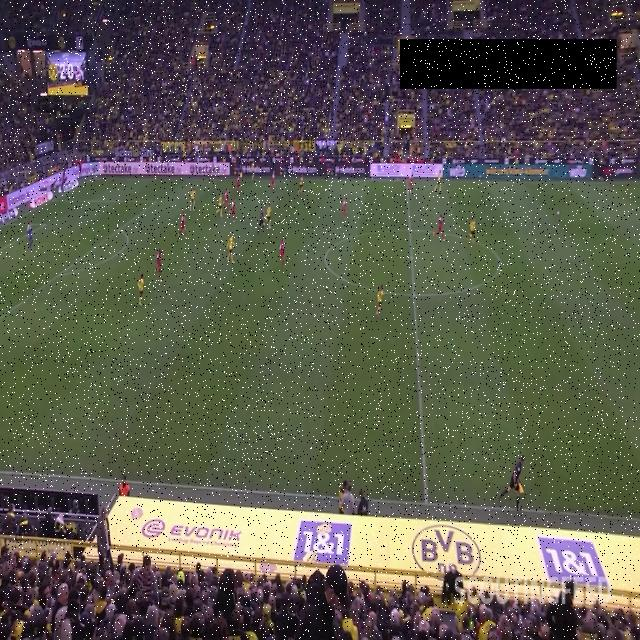Ball: (557, 211, 560, 215)
GoalKeeper: (25, 223, 35, 251)
Referee: (500, 456, 526, 511), (257, 209, 266, 234), (239, 162, 244, 178)
TEAM 1: (432, 215, 446, 241), (153, 247, 163, 282), (178, 211, 186, 239), (406, 170, 414, 196), (278, 238, 285, 267), (223, 189, 231, 213), (230, 198, 238, 221), (340, 198, 348, 219), (270, 171, 276, 192), (237, 176, 241, 192)
TEAM 2: (375, 283, 386, 318), (226, 233, 237, 263), (136, 273, 145, 305), (264, 200, 272, 229), (469, 216, 477, 243), (434, 170, 442, 193), (296, 173, 304, 195), (216, 192, 223, 217), (190, 188, 196, 212), (251, 162, 255, 181)
